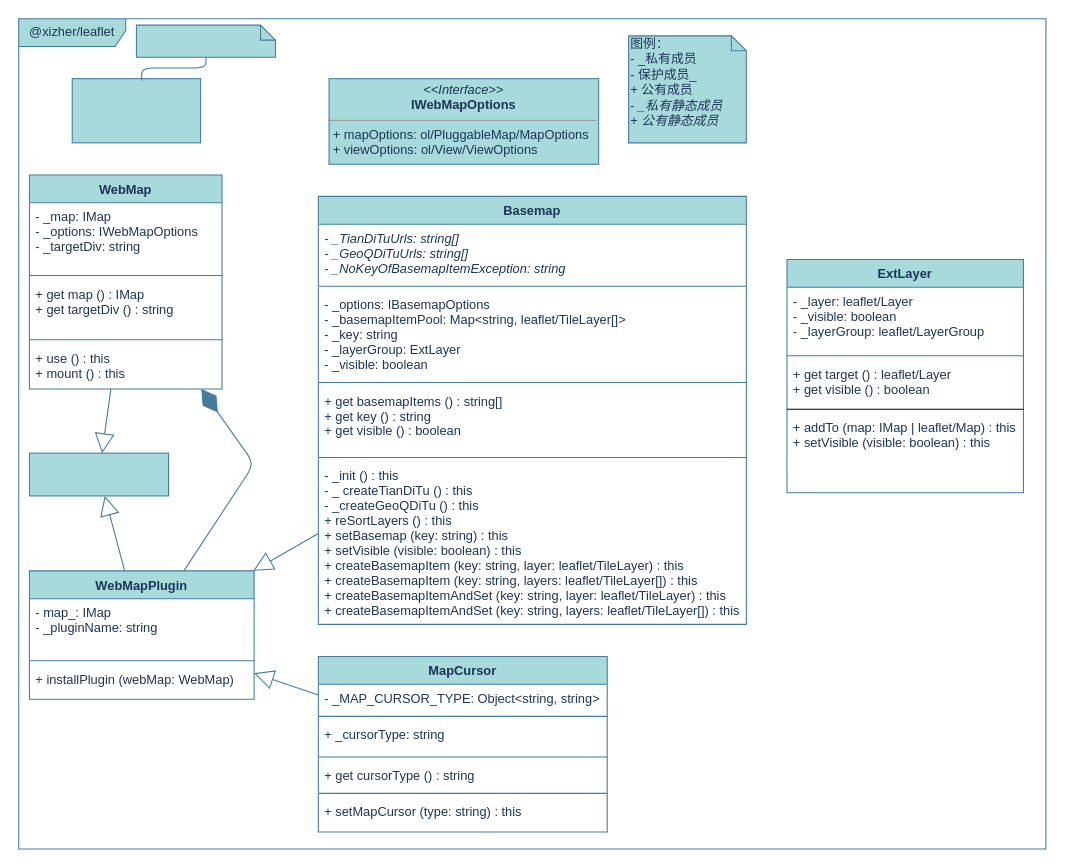
Image size: 1065x868. Some labels were removed from this diagram. The shapes that lost their labels are listed below. From the top down, each one's centre as x and y in pixels, then its label:
point 205,40: extends leaflet/Map
point 136,110: <<Interface>> IMap + $owner: WebMap
point 98,474: @xizher/observer
